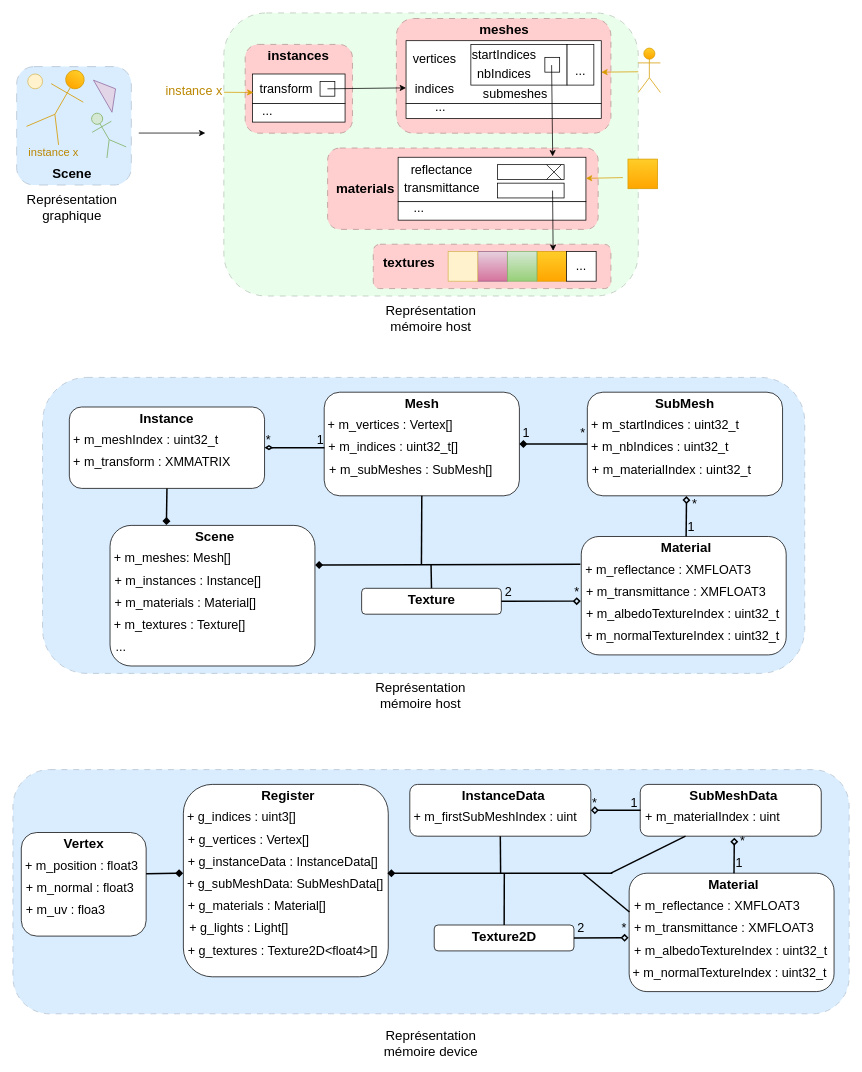
The diagram is 862 pixels wide and 1072 high, and some of its shapes have lost their labels. The centre of each missing label's shape, as x and y in pixels:
"albedo" belongs at point 530,190.
"normal" belongs at point 530,171.
